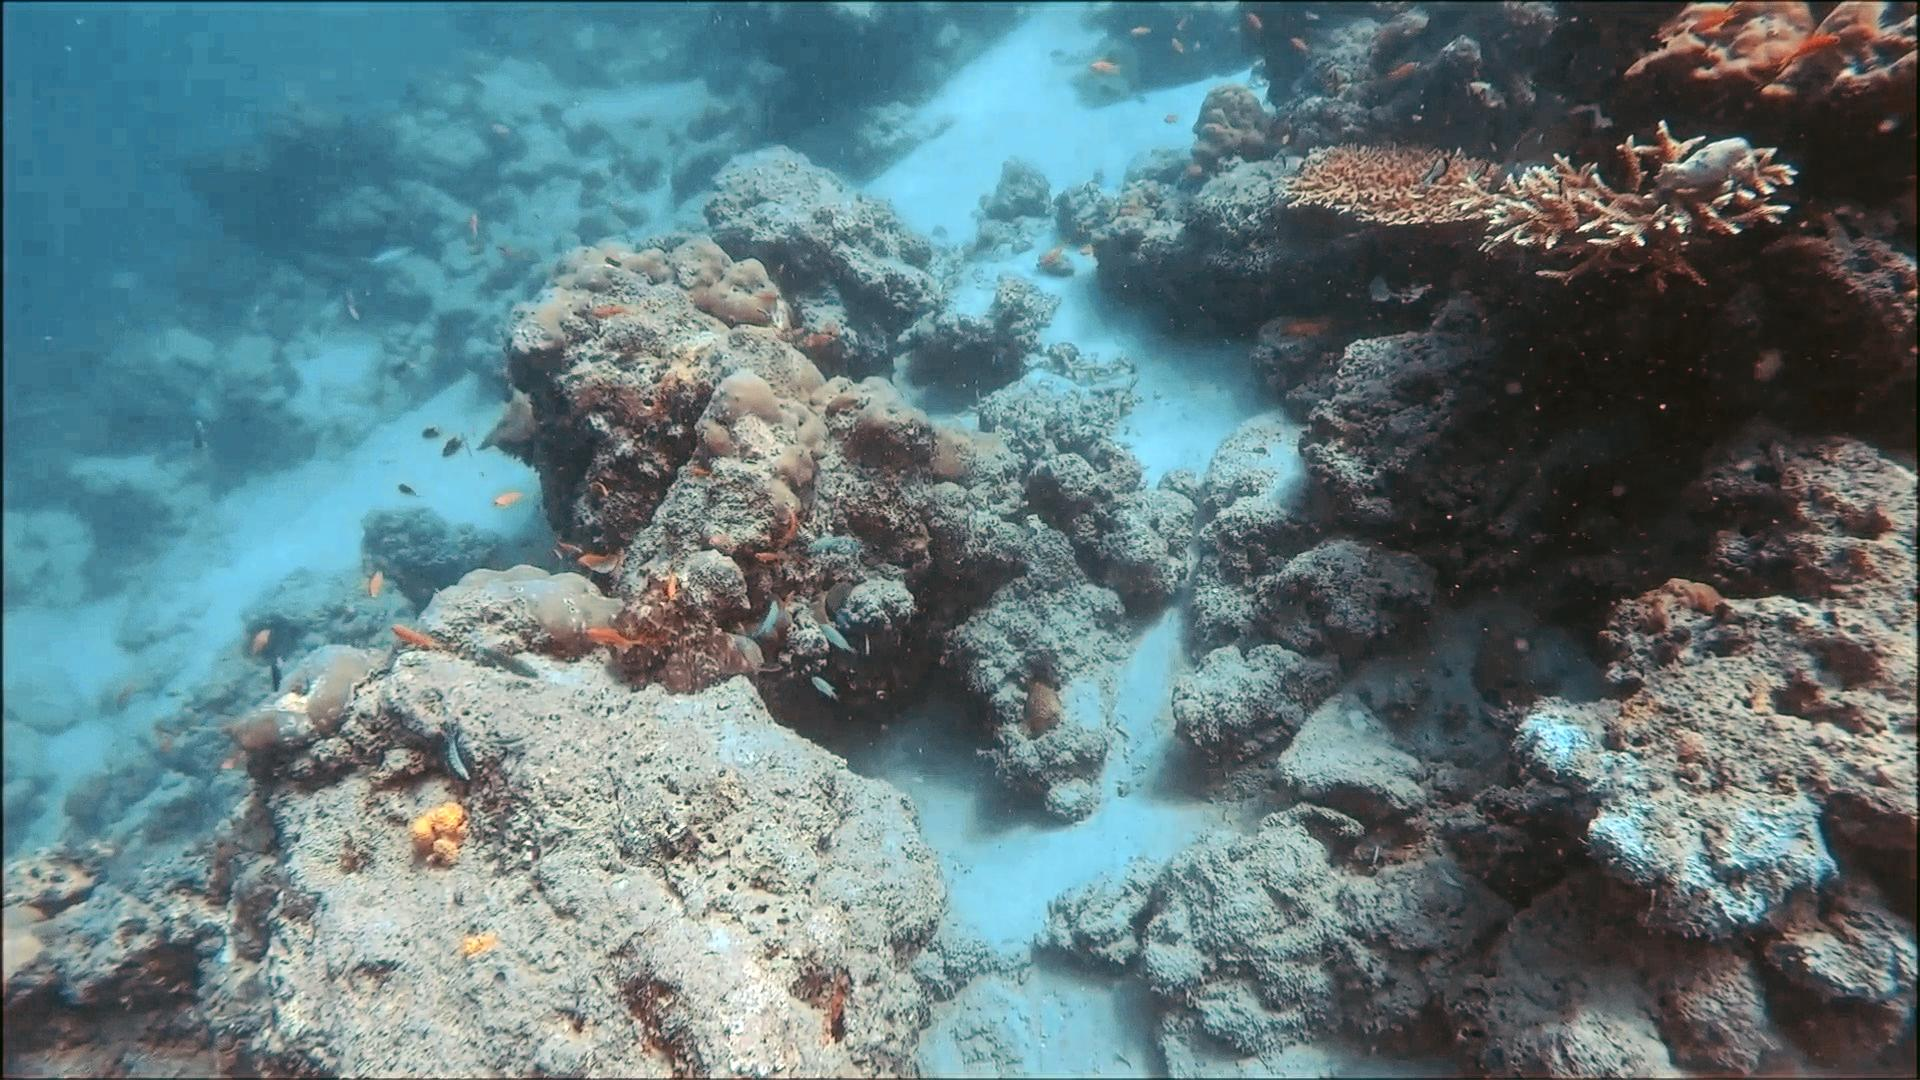Porites-Porites pukoensis: (640, 228, 864, 531)
